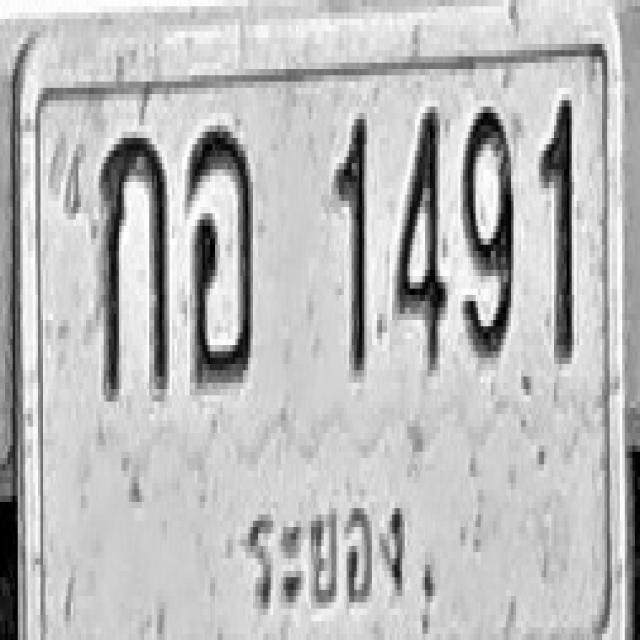1: (540, 91, 573, 361), (334, 113, 367, 376)
10GorGai: (100, 128, 168, 398)
4: (394, 104, 446, 367)
52OrAng: (186, 122, 252, 386)
9: (461, 100, 514, 358)
